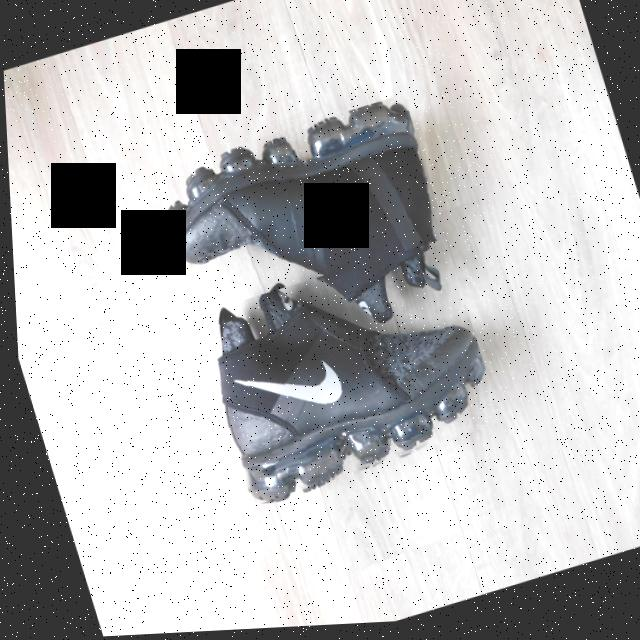shoe: (167, 240, 502, 517), (119, 96, 460, 367)
